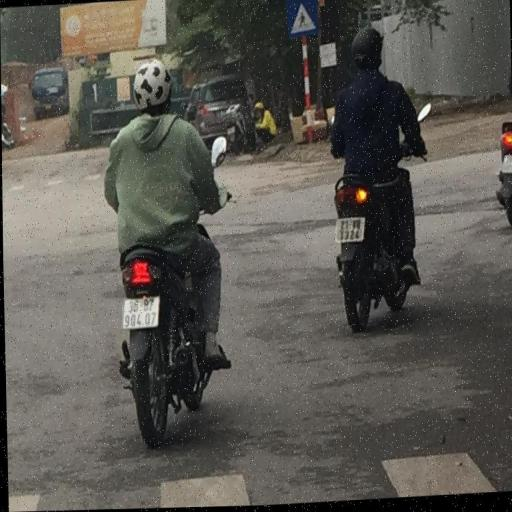bike: (100, 51, 239, 452), (316, 22, 440, 337)
numberplate: (118, 295, 162, 332), (333, 218, 367, 248)
with helmet: (130, 57, 171, 117), (348, 24, 385, 71)
